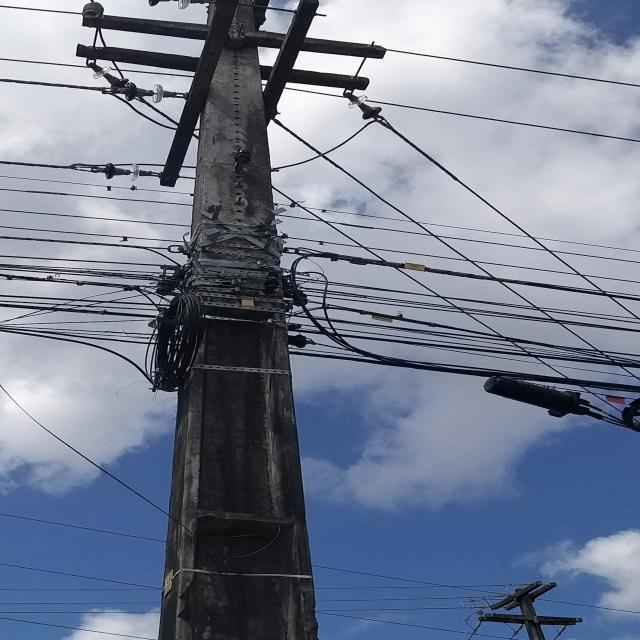Plaqueta: (606, 396, 625, 404)
